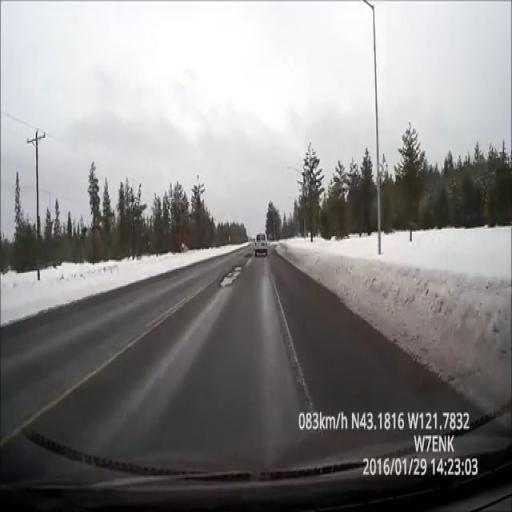Potholes: (221, 267, 241, 286)
